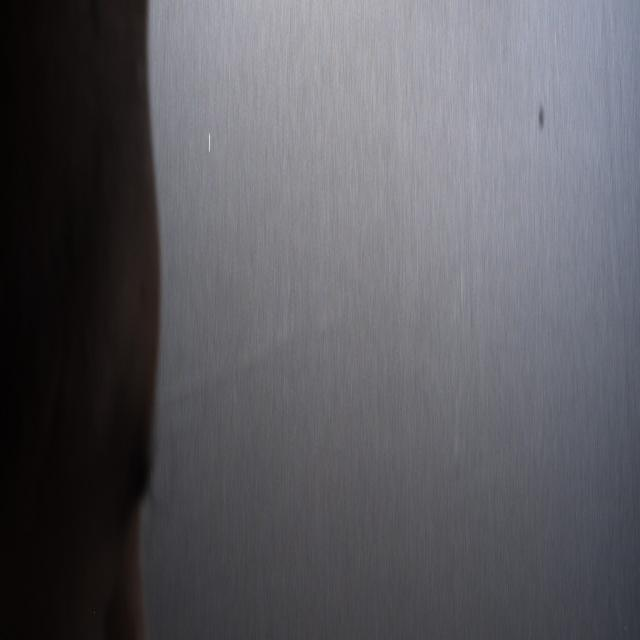crease: (600, 22, 629, 395)
whiteDefect: (207, 126, 211, 159)
